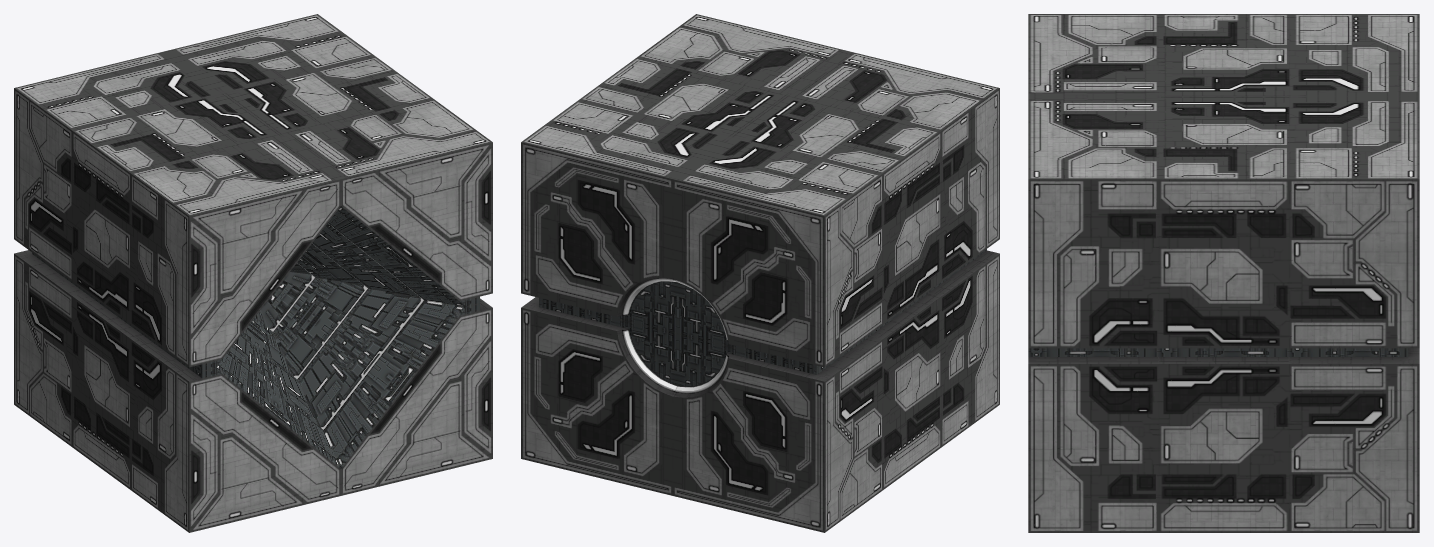
File: star_eater.obj
3 renders of one model, left to right at view 1: azimuth 30°, elevation 25°; view 2: azimuth 150°, elevation 25°; view 3: azimuth 270°, elevation 25°, orthographic. The views are drawn at different scales.
Visible parts, largest first — view 1: star_eater_01_core_g_body_g_body; view 2: star_eater_01_core_g_body_g_body; view 3: star_eater_01_core_g_body_g_body.
Part boxes in pixels (<box>): star_eater_01_core_g_body_g_body: <box>14,14,492,532</box>; star_eater_01_core_g_body_g_body: <box>521,14,999,532</box>; star_eater_01_core_g_body_g_body: <box>1028,14,1419,532</box>.
Size of the model in its own units: 38.34 by 38.23 by 38.31.
Materials: 1 (1 with a texture image).
